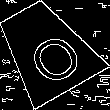O_NW: (12, 17, 81, 83)
